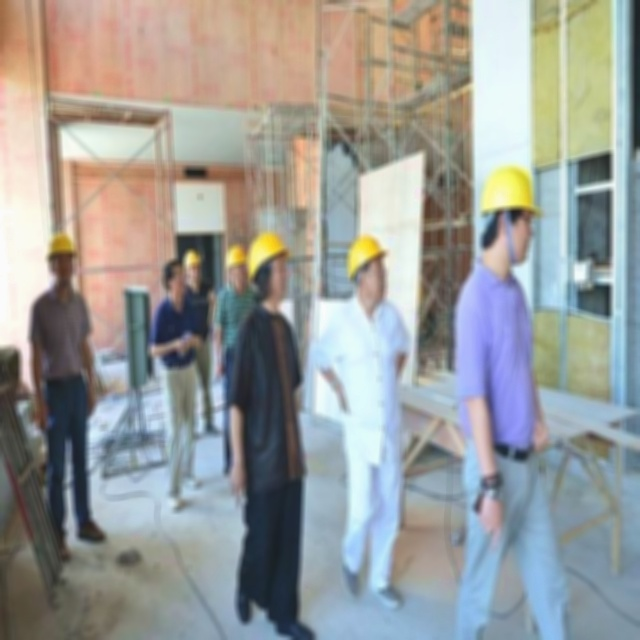Con_Casco: (478, 165, 542, 261), (348, 235, 389, 305)
